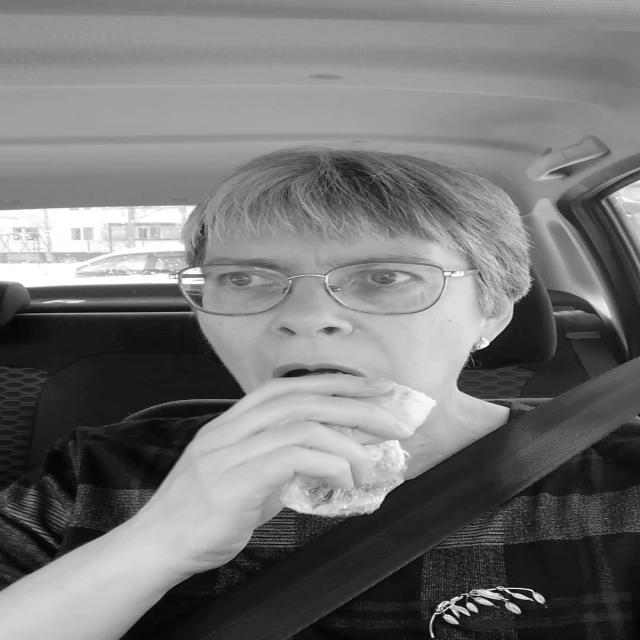Eating: (305, 363, 444, 519)
Seatbelt: (170, 366, 640, 640)
